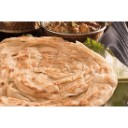parota: (1, 37, 118, 105)
